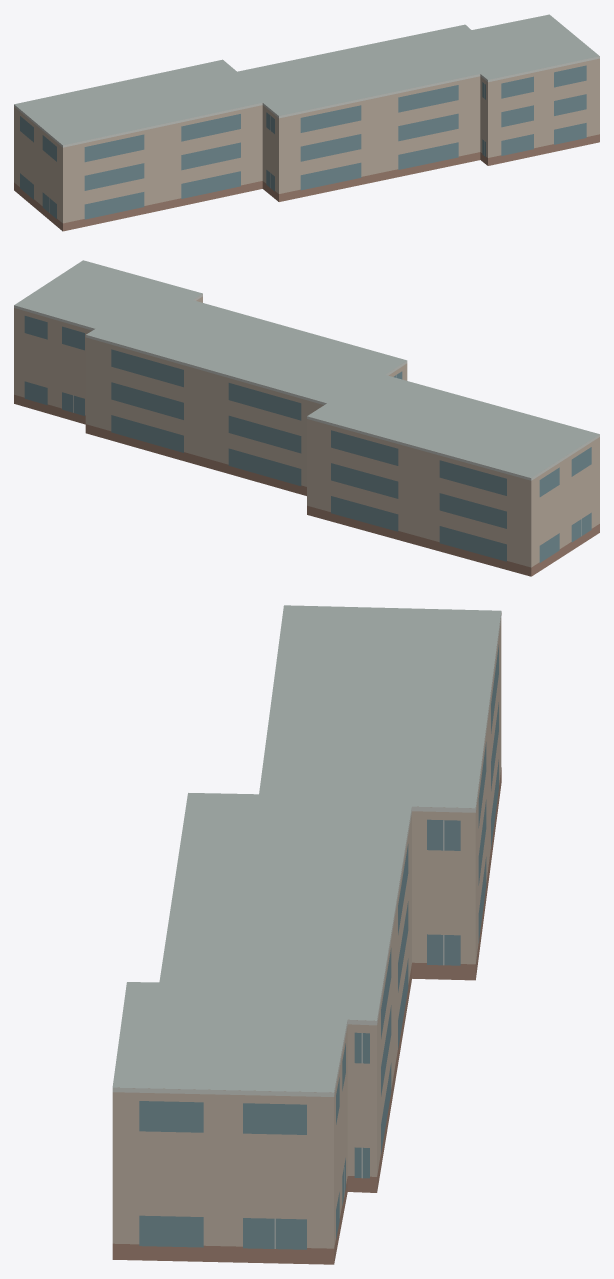
The model's file is survey-upis-32886329.glb.
3 views of the same model, one above another, from view 1: azimuth 30°, elevation 25°; view 2: azimuth 150°, elevation 25°; view 3: azimuth 270°, elevation 25° (orthographic). The views are drawn at different scales.
Visible parts, largest first — view 1: survey-upis-32886329.tmp; view 2: survey-upis-32886329.tmp; view 3: survey-upis-32886329.tmp.
Part boxes in pixels (bbox=[...]): survey-upis-32886329.tmp: bbox=[14, 14, 599, 231]; survey-upis-32886329.tmp: bbox=[14, 260, 599, 576]; survey-upis-32886329.tmp: bbox=[112, 605, 501, 1264].
Bounding box in the file's own units: 55.56 × 9.15 × 18.75.
